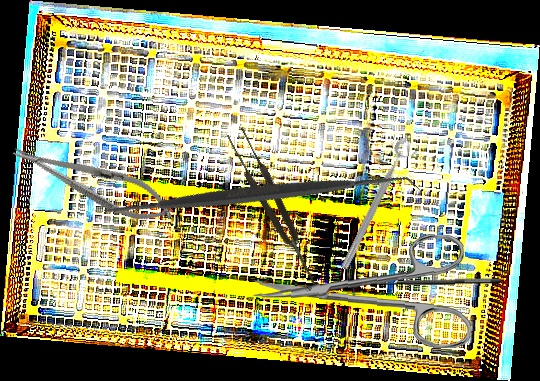Fixation Ring: (337, 135, 421, 276)
Hook Surgical: (350, 275, 502, 298)
Iris Scissors: (251, 228, 474, 349)
Needle Holder: (6, 130, 181, 234)
Spatula Surgical: (91, 29, 422, 360)
Tissue Forceps: (224, 125, 331, 304)
